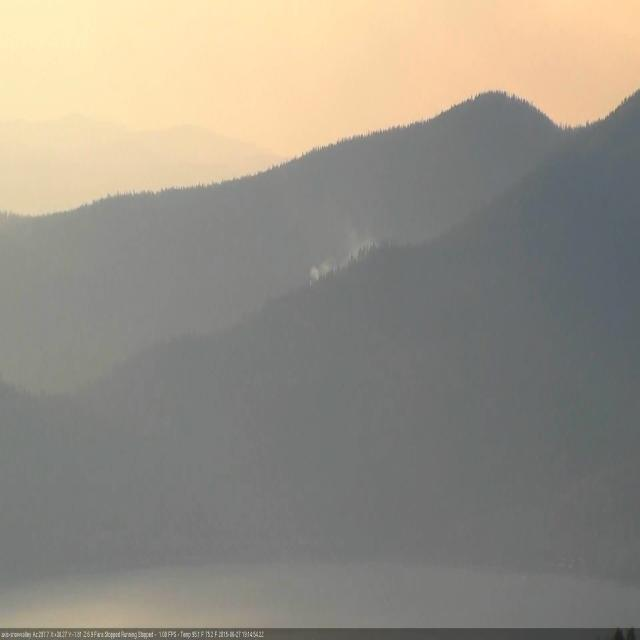smoke: (310, 233, 380, 279)
